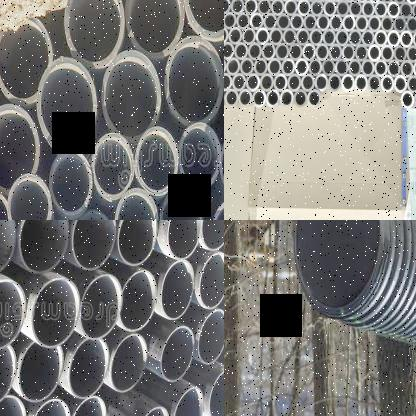pipe: (294, 220, 386, 318), (36, 57, 98, 150), (101, 52, 161, 142), (164, 36, 224, 126), (0, 17, 52, 105), (65, 0, 124, 68), (124, 0, 184, 59), (0, 104, 39, 194), (31, 278, 80, 348), (180, 122, 222, 192), (136, 127, 178, 196), (92, 132, 134, 200), (49, 150, 92, 216), (80, 274, 123, 340), (67, 337, 110, 399), (19, 220, 69, 273), (18, 344, 63, 402), (119, 270, 157, 332), (71, 220, 116, 271), (110, 334, 148, 392), (7, 173, 52, 220), (161, 260, 194, 320), (160, 326, 194, 382), (0, 279, 26, 351), (117, 220, 157, 265), (184, 0, 224, 39), (198, 310, 224, 365), (199, 252, 224, 309), (114, 188, 158, 220), (167, 220, 202, 260), (160, 187, 202, 220), (172, 386, 204, 416), (0, 347, 16, 406), (0, 220, 16, 277), (69, 396, 106, 416), (209, 368, 224, 416), (28, 399, 70, 416), (201, 220, 224, 251), (306, 88, 322, 108), (393, 74, 408, 94), (273, 73, 288, 93), (386, 58, 401, 78), (228, 26, 243, 46), (367, 74, 382, 93), (308, 58, 323, 77), (393, 44, 408, 63), (367, 43, 382, 62), (341, 43, 356, 62), (315, 43, 330, 62), (380, 74, 394, 94), (341, 73, 355, 93), (328, 73, 342, 93), (288, 73, 302, 93), (301, 73, 315, 93), (260, 72, 274, 92), (246, 72, 260, 92), (232, 72, 246, 92), (361, 58, 375, 78), (348, 58, 362, 78), (226, 56, 240, 76), (302, 42, 316, 62), (289, 42, 303, 62), (275, 42, 289, 62), (248, 42, 262, 62), (361, 28, 375, 48), (242, 26, 256, 46), (401, 90, 415, 110), (282, 28, 297, 46), (263, 12, 278, 30), (374, 59, 388, 78), (335, 58, 349, 77), (322, 58, 336, 77), (295, 58, 309, 77), (354, 43, 368, 62), (328, 43, 342, 62), (262, 42, 276, 61), (336, 28, 350, 47), (322, 28, 336, 47), (269, 27, 283, 46), (256, 27, 270, 46), (316, 13, 330, 32), (290, 12, 304, 31), (276, 12, 290, 31), (250, 12, 264, 31), (294, 89, 308, 108), (280, 89, 294, 108), (266, 89, 280, 108), (252, 89, 266, 108), (238, 88, 252, 107), (224, 88, 238, 107), (349, 28, 362, 48), (354, 74, 368, 92), (314, 74, 328, 92), (400, 60, 414, 78), (282, 58, 296, 76), (268, 58, 282, 76), (254, 58, 268, 76), (240, 58, 254, 76), (234, 42, 248, 60), (400, 30, 414, 48), (387, 30, 401, 48), (374, 30, 388, 48), (310, 28, 324, 46), (296, 28, 310, 46), (342, 14, 356, 32), (303, 14, 317, 32), (236, 12, 250, 30), (374, 0, 388, 18), (381, 44, 394, 63), (256, 0, 271, 16), (355, 15, 369, 32), (329, 14, 343, 31), (381, 15, 394, 33), (368, 14, 381, 32), (387, 1, 400, 19), (362, 0, 375, 18), (349, 0, 362, 18), (224, 11, 236, 30), (323, 0, 337, 16), (336, 0, 349, 17), (394, 16, 406, 34), (400, 1, 412, 19), (230, 0, 244, 15), (310, 0, 323, 16), (297, 0, 310, 16), (284, 0, 297, 16), (244, 0, 257, 16), (271, 0, 284, 15), (406, 44, 416, 63), (224, 41, 234, 60), (407, 75, 416, 94), (406, 16, 416, 33), (224, 72, 232, 92), (224, 0, 230, 15), (224, 26, 228, 45), (412, 1, 416, 19), (413, 90, 416, 110), (413, 60, 416, 79), (413, 30, 416, 48), (393, 0, 406, 4), (381, 0, 394, 4)
